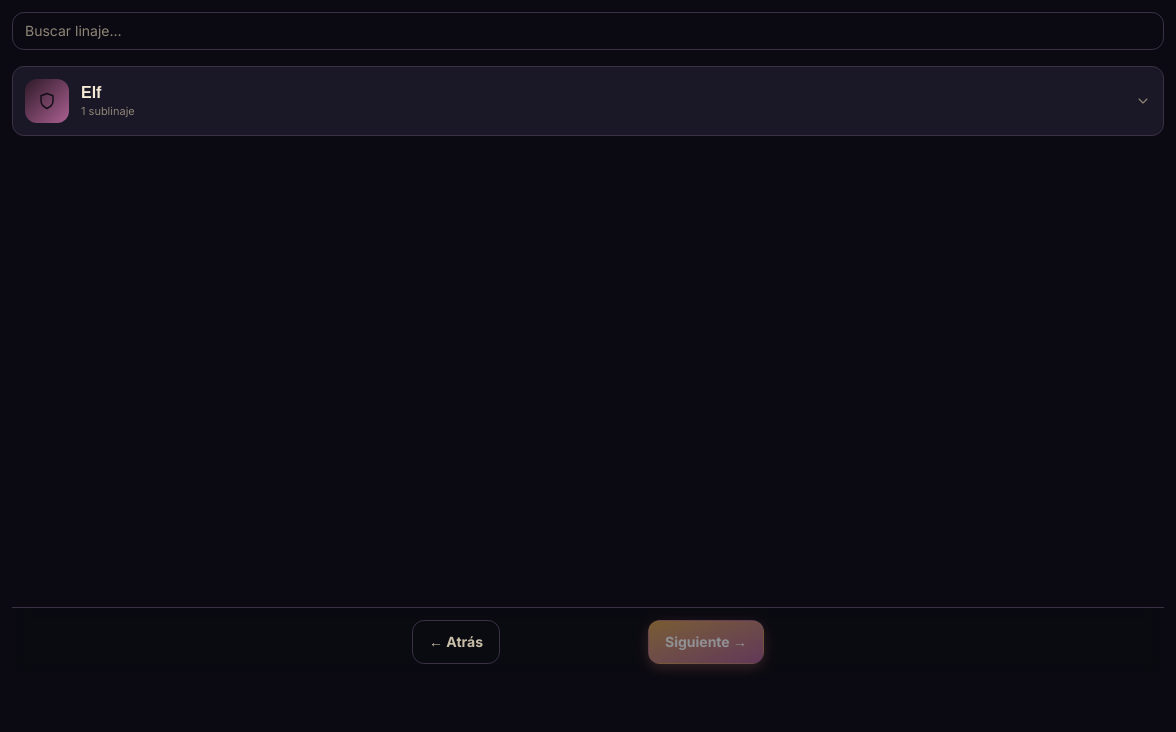
Test case: W-F2: cross-level absorption — base race merges into parent accordion (option A) › Sea Elf MPMM base race is absorbed into the Elf accordion (no top-level Sea Elf card)
The width and height of the screenshot is (1176, 732).
Note: Expand Elf accordion
Click the button "Elf 1 sublinaje": (47, 101) [13, 67, 1163, 135]
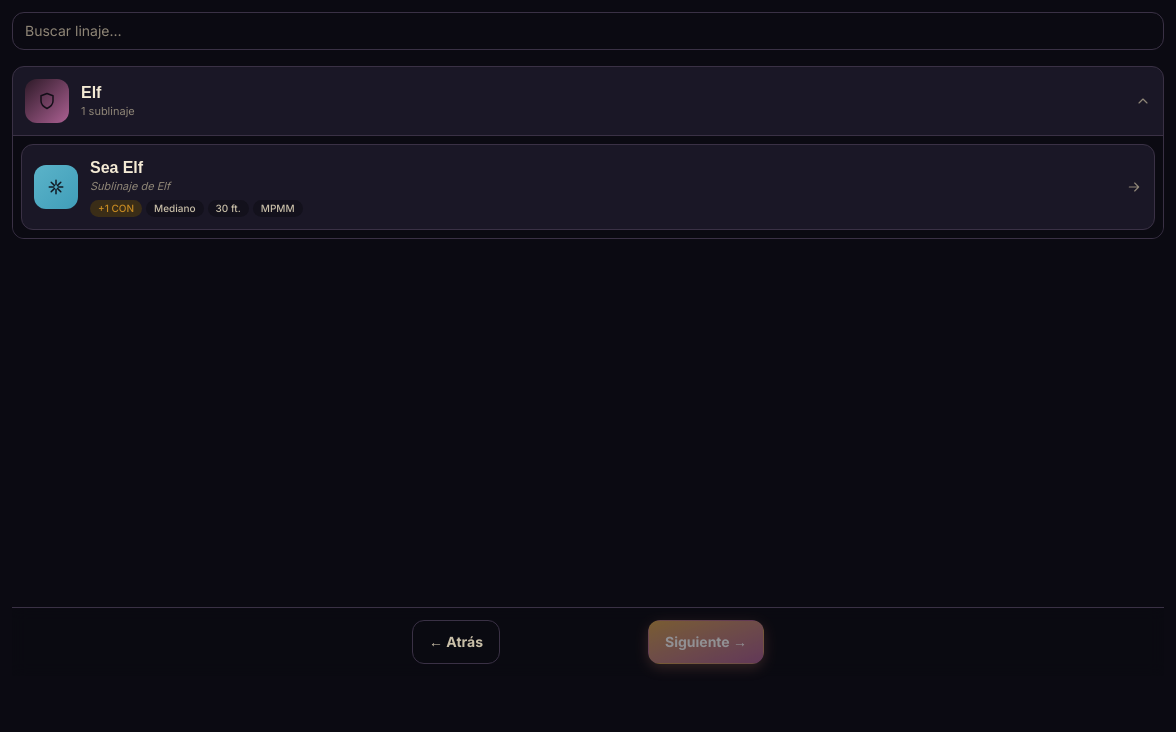
Check: the text "Sea Elf" is shown once, box [90, 156, 143, 178]
